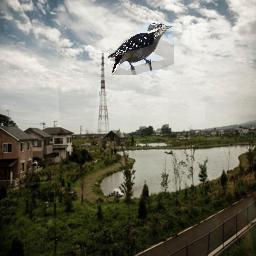Woodpecker: (106, 22, 174, 75)
